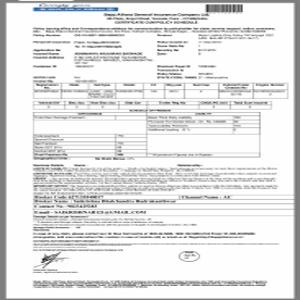table: (33, 112, 261, 158), (32, 83, 291, 100), (32, 99, 272, 111)
text: (32, 25, 278, 84), (32, 162, 280, 197), (102, 12, 209, 28)
